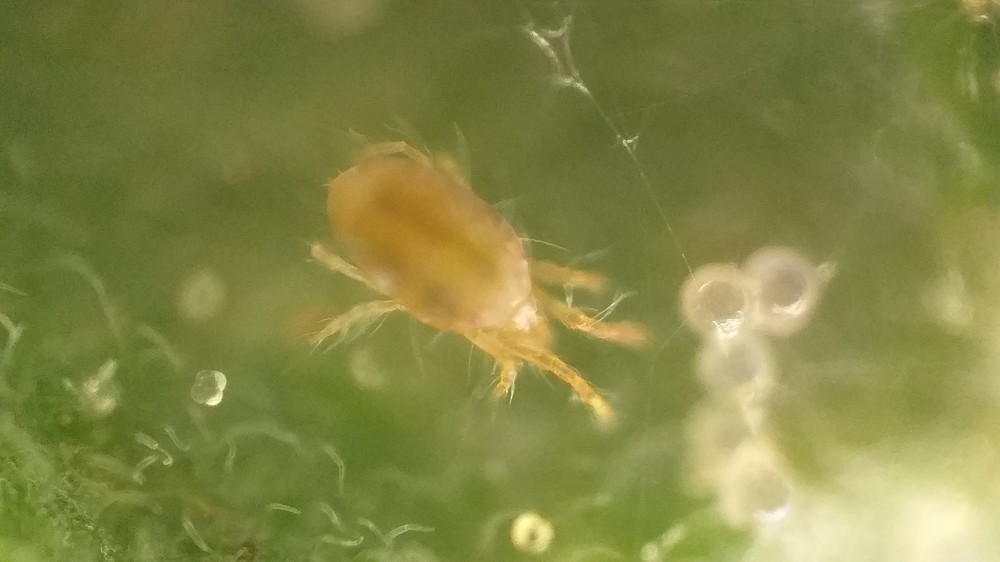Aracnido Rojo: (297, 121, 660, 472)
